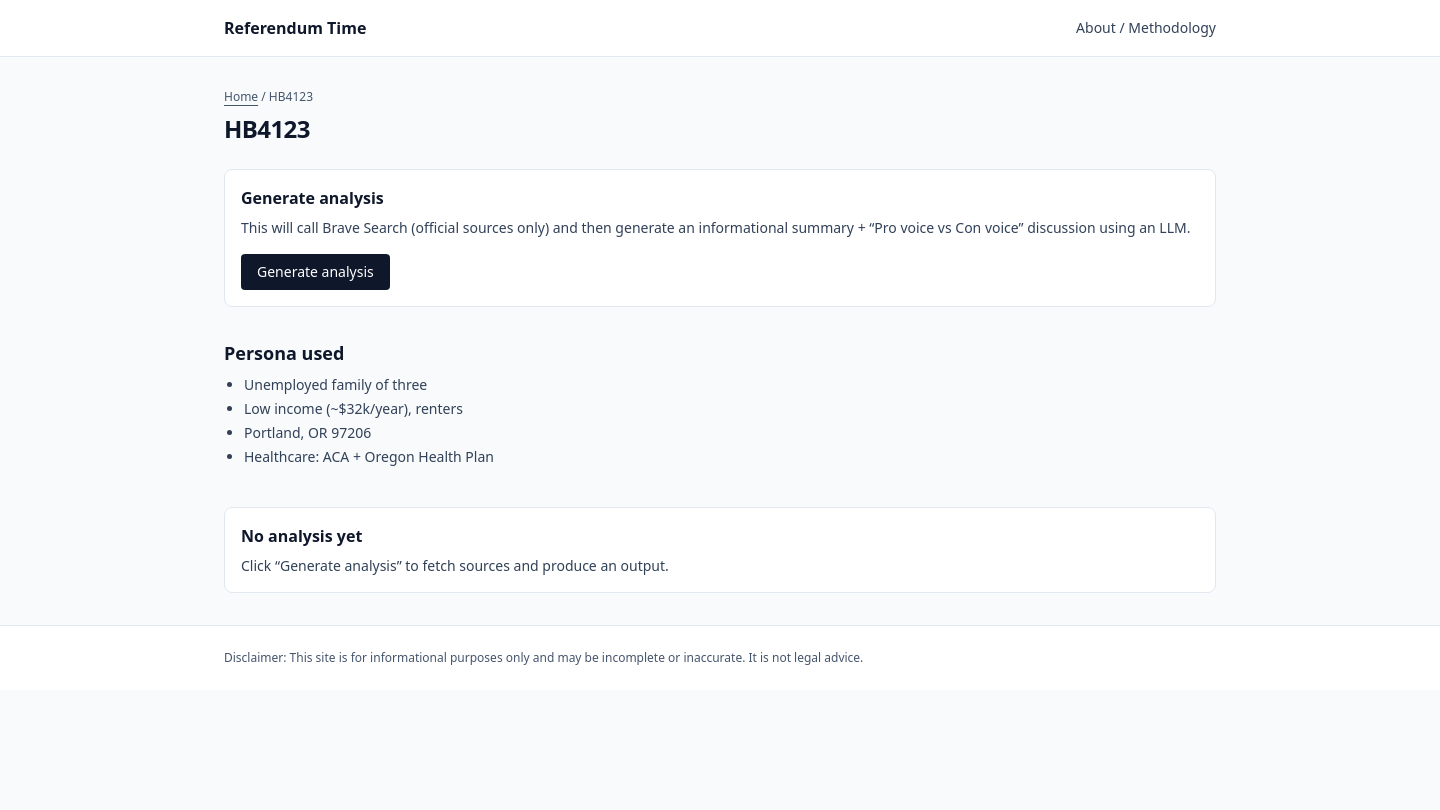
Test: BillPage › shows an error when the API request fails
Click the button "Generate analysis": (315, 272) [241,254,390,290]
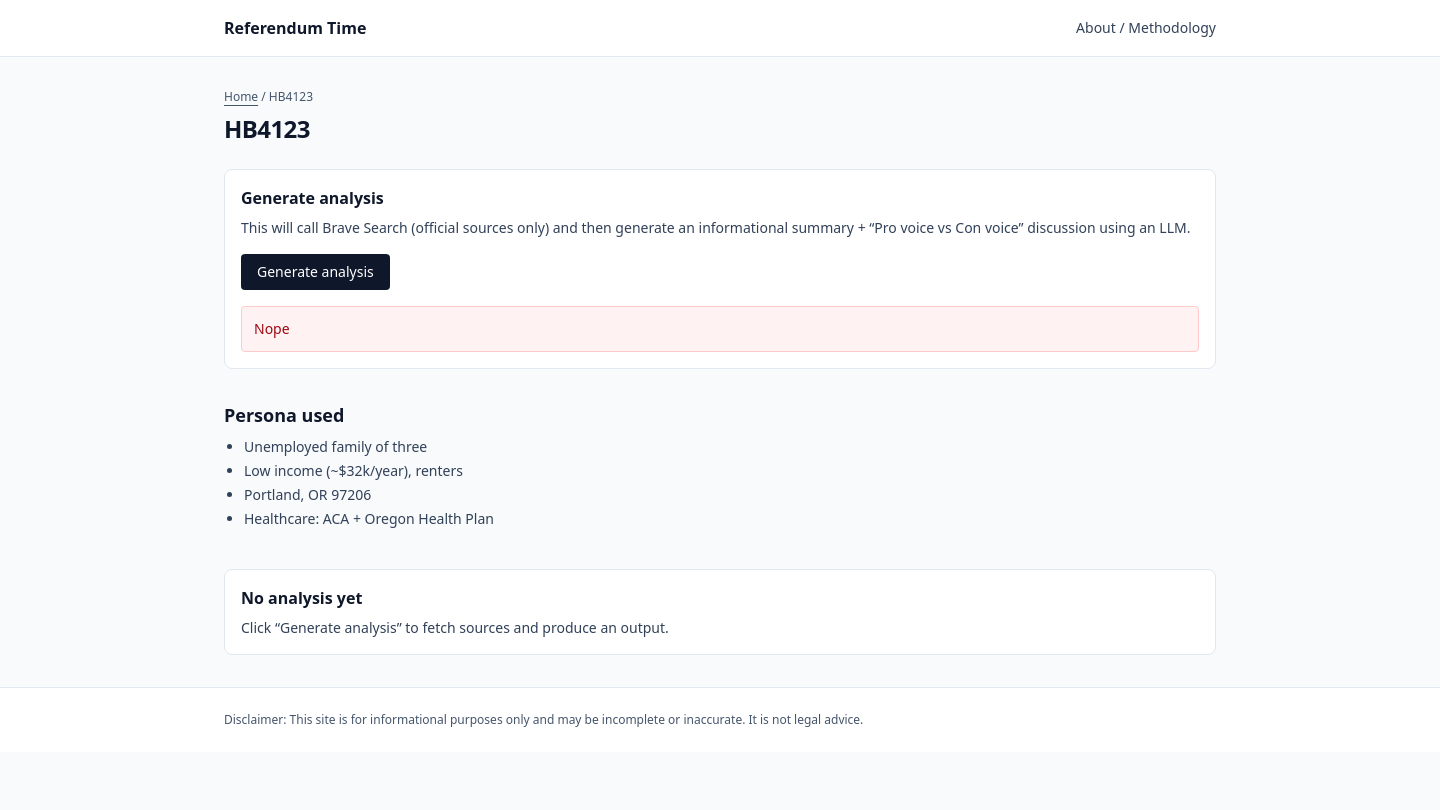
Result: the message reads "Nope" at [254,319,290,338]
